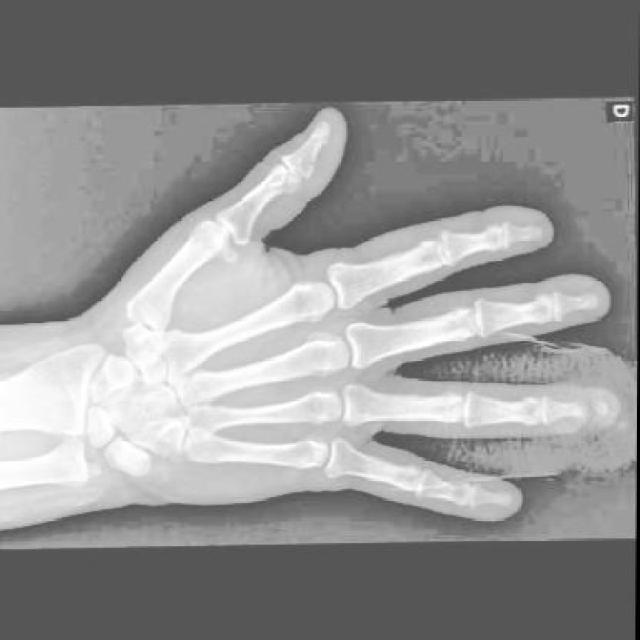Fracture: (579, 395, 610, 417)
